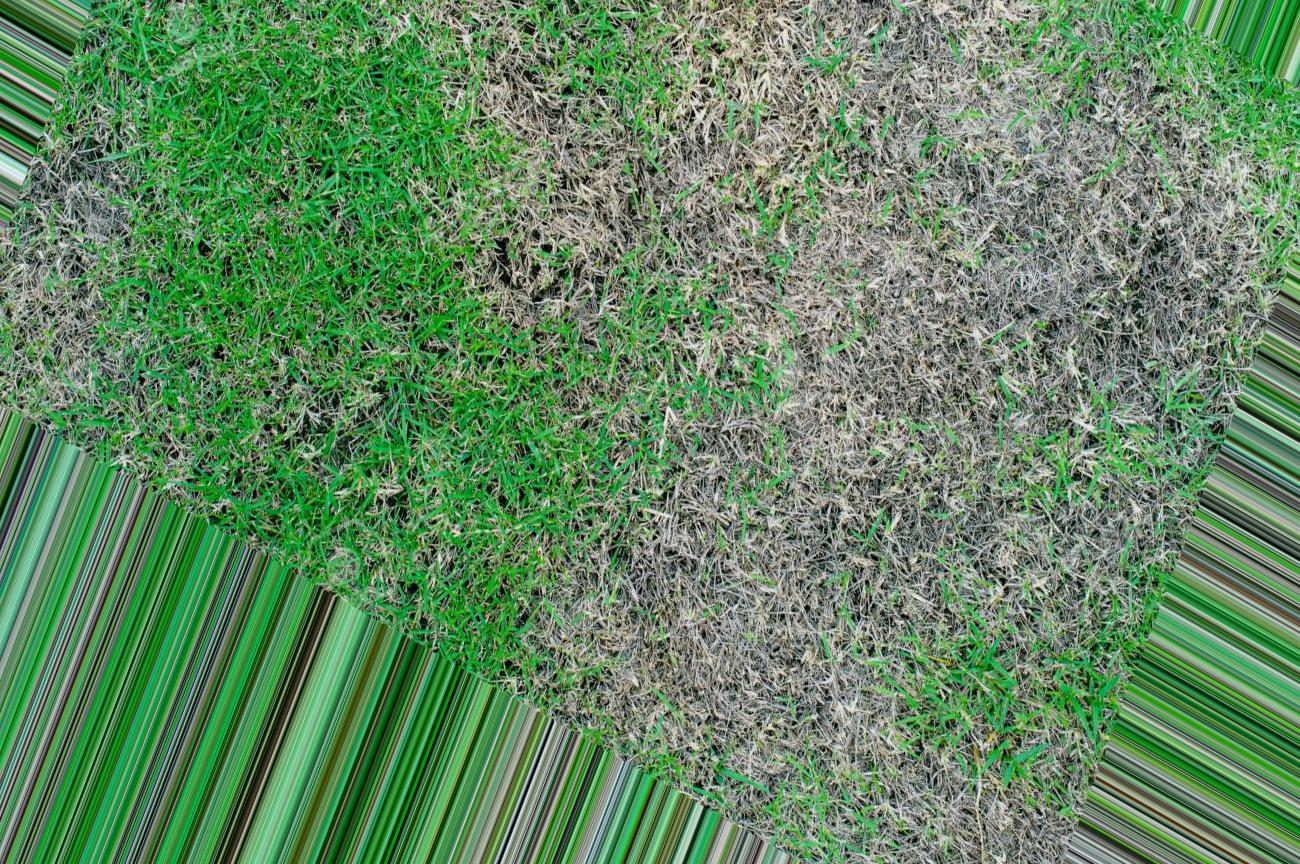patch: (488, 18, 1281, 293), (578, 293, 1117, 690)
